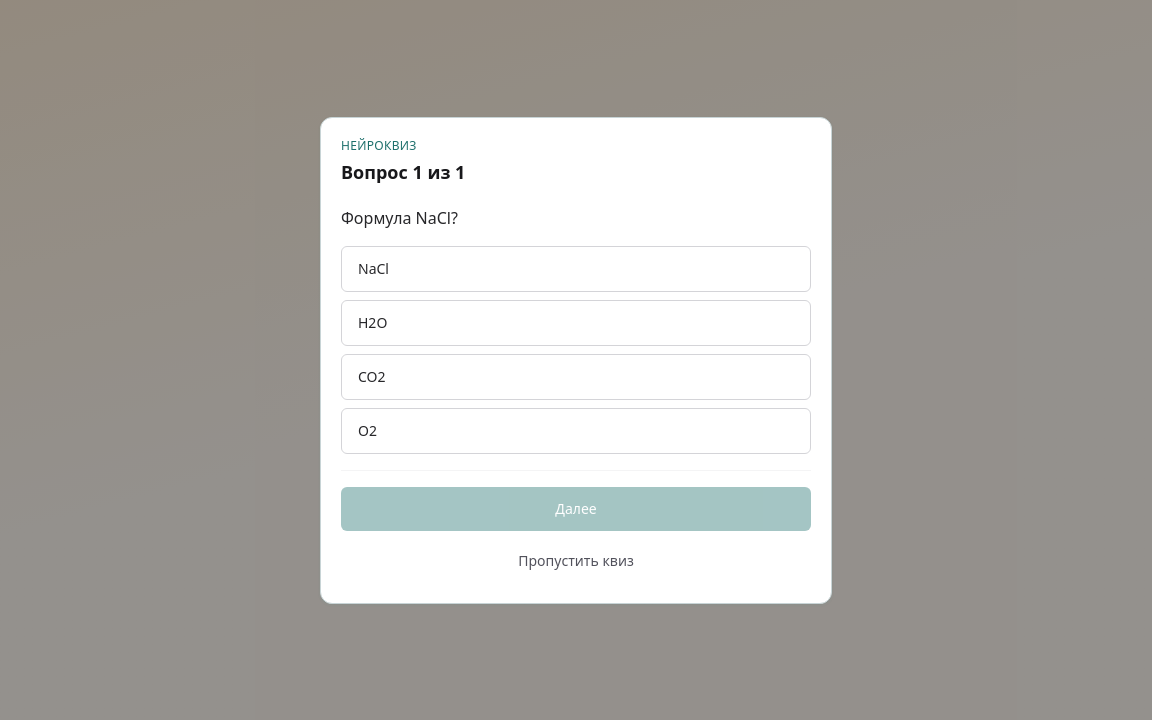
it: NeuroQuizOverlay › after reopen with unanswered-only session, answers index 0 without 409
Expected: the text "Формула NaCl?" is shown, left=341, top=206, right=458, bottom=228
Expected: the heading "Вопрос 1 из 1" is shown, left=341, top=158, right=465, bottom=186
Click the button "NaCl": (373, 268) left=341, top=246, right=811, bottom=292
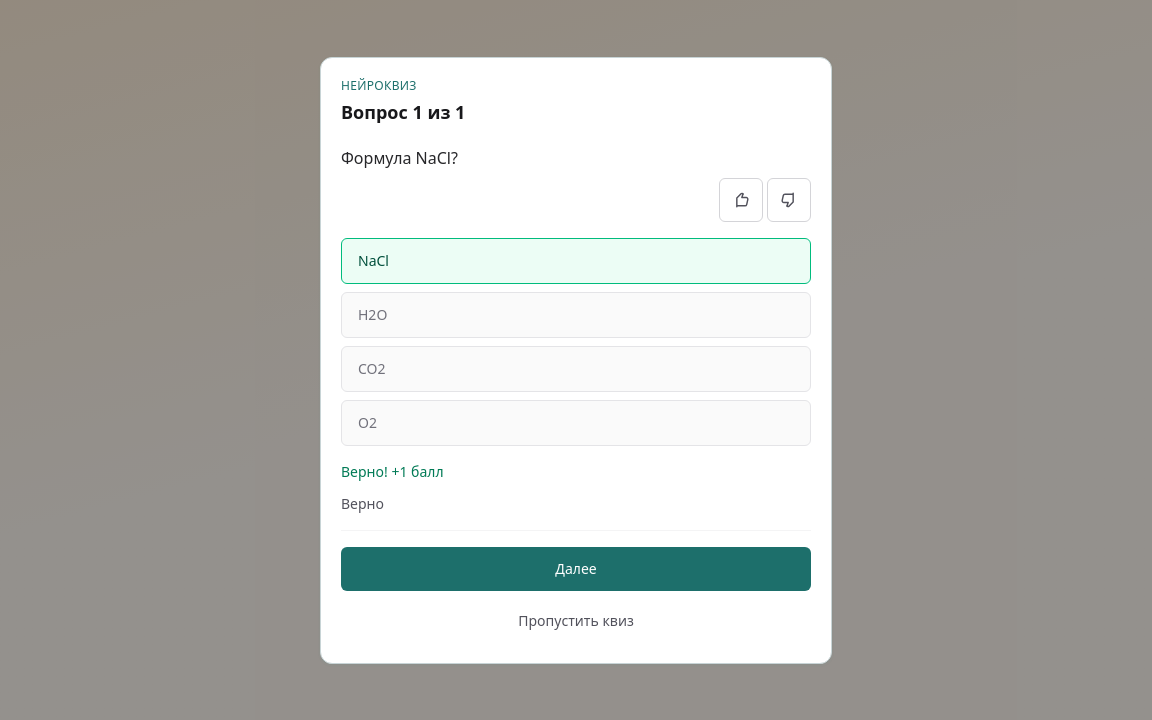
Expected: the text "Верно! +1 балл" is shown, left=341, top=462, right=444, bottom=480
